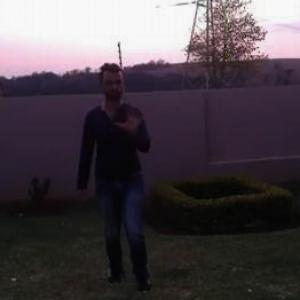follow_hand: (114, 100, 146, 134)
